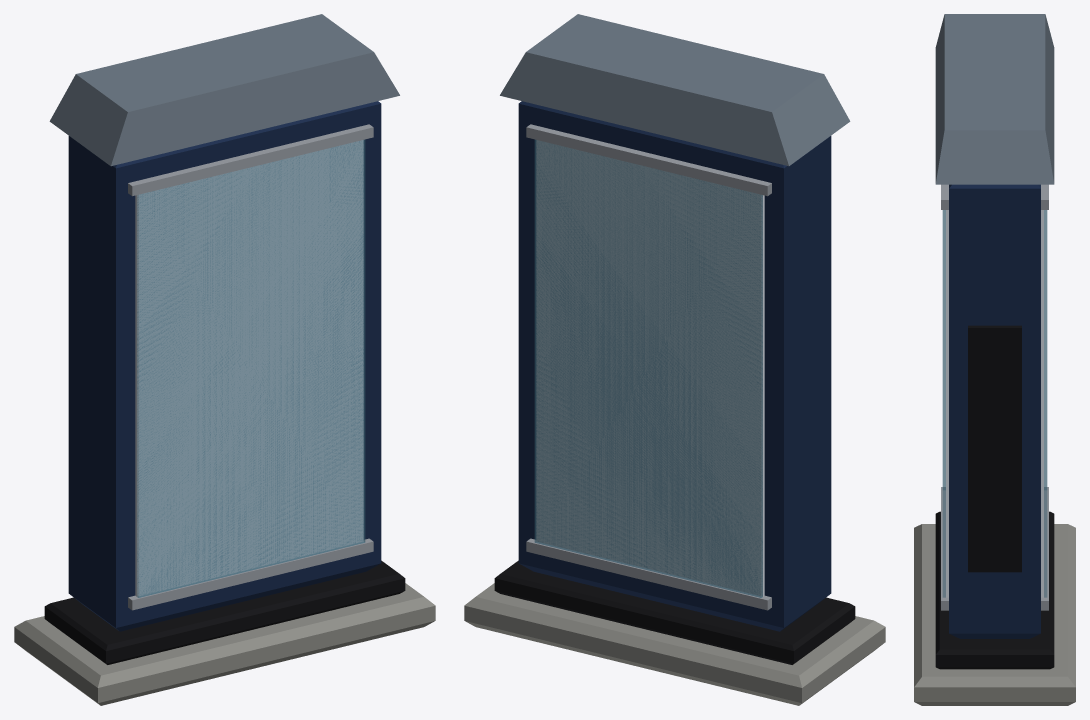
Rendered from PROP_15.obj.
The picture shows the model from 3 angles, left to right: view 1: azimuth 30°, elevation 25°; view 2: azimuth 150°, elevation 25°; view 3: azimuth 270°, elevation 25°; orthographic projection. The views are drawn at different scales.
Visible parts, largest first — view 1: PROP_15__glass, PROP_15__display, PROP_15__body, PROP_15__crown, PROP_15__plinth, PROP_15__foot, PROP_15__trim; view 2: PROP_15__glass, PROP_15__display, PROP_15__body, PROP_15__crown, PROP_15__plinth, PROP_15__foot, PROP_15__trim; view 3: PROP_15__body, PROP_15__crown, PROP_15__side_vent, PROP_15__plinth, PROP_15__foot, PROP_15__glass, PROP_15__display, PROP_15__trim.
Part boxes in pixels (bbox=[...]): PROP_15__glass: bbox=[137, 139, 365, 597]; PROP_15__display: bbox=[135, 140, 363, 596]; PROP_15__body: bbox=[68, 101, 381, 631]; PROP_15__crown: bbox=[49, 14, 399, 166]; PROP_15__plinth: bbox=[14, 583, 435, 705]; PROP_15__foot: bbox=[44, 560, 405, 664]; PROP_15__trim: bbox=[128, 124, 373, 610]; PROP_15__glass: bbox=[534, 139, 762, 597]; PROP_15__display: bbox=[536, 140, 764, 596]; PROP_15__body: bbox=[518, 101, 831, 631]; PROP_15__crown: bbox=[500, 14, 850, 166]; PROP_15__plinth: bbox=[464, 583, 885, 705]; PROP_15__foot: bbox=[494, 560, 855, 664]; PROP_15__trim: bbox=[526, 124, 771, 610]; PROP_15__body: bbox=[949, 184, 1040, 638]; PROP_15__crown: bbox=[935, 14, 1054, 184]; PROP_15__side_vent: bbox=[968, 325, 1021, 572]; PROP_15__plinth: bbox=[914, 524, 1075, 705]; PROP_15__foot: bbox=[935, 511, 1054, 669]; PROP_15__glass: bbox=[942, 210, 1047, 597]; PROP_15__display: bbox=[946, 210, 1043, 597]; PROP_15__trim: bbox=[941, 184, 1048, 610].
Size of the model in its own units: 1.4 by 2.28 by 0.6.
